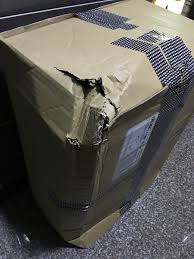damaged package: (50, 64, 139, 151)
